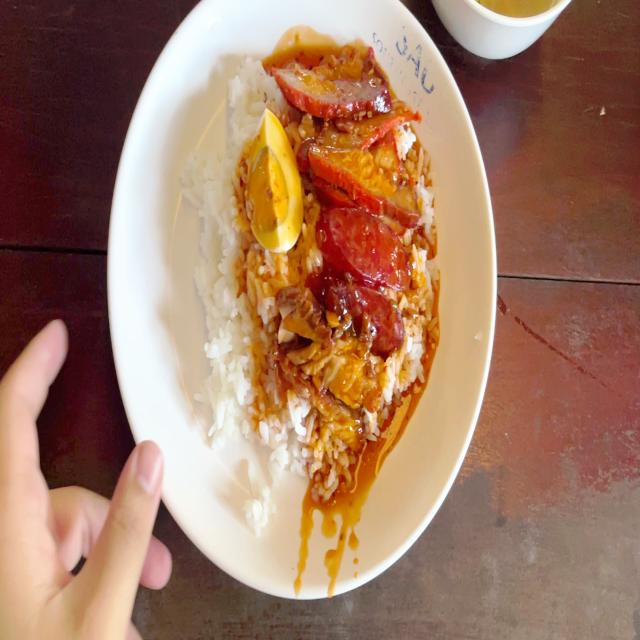boiled_egg: (253, 126, 298, 243)
chainese_sausage: (326, 216, 406, 330)
crispy_pork: (312, 345, 380, 441), (284, 290, 325, 382)
red_pork: (305, 72, 430, 215)
red_pork_and_crispy_pork: (195, 67, 425, 479)
rice: (204, 252, 276, 478), (192, 146, 243, 270), (232, 58, 263, 138)
